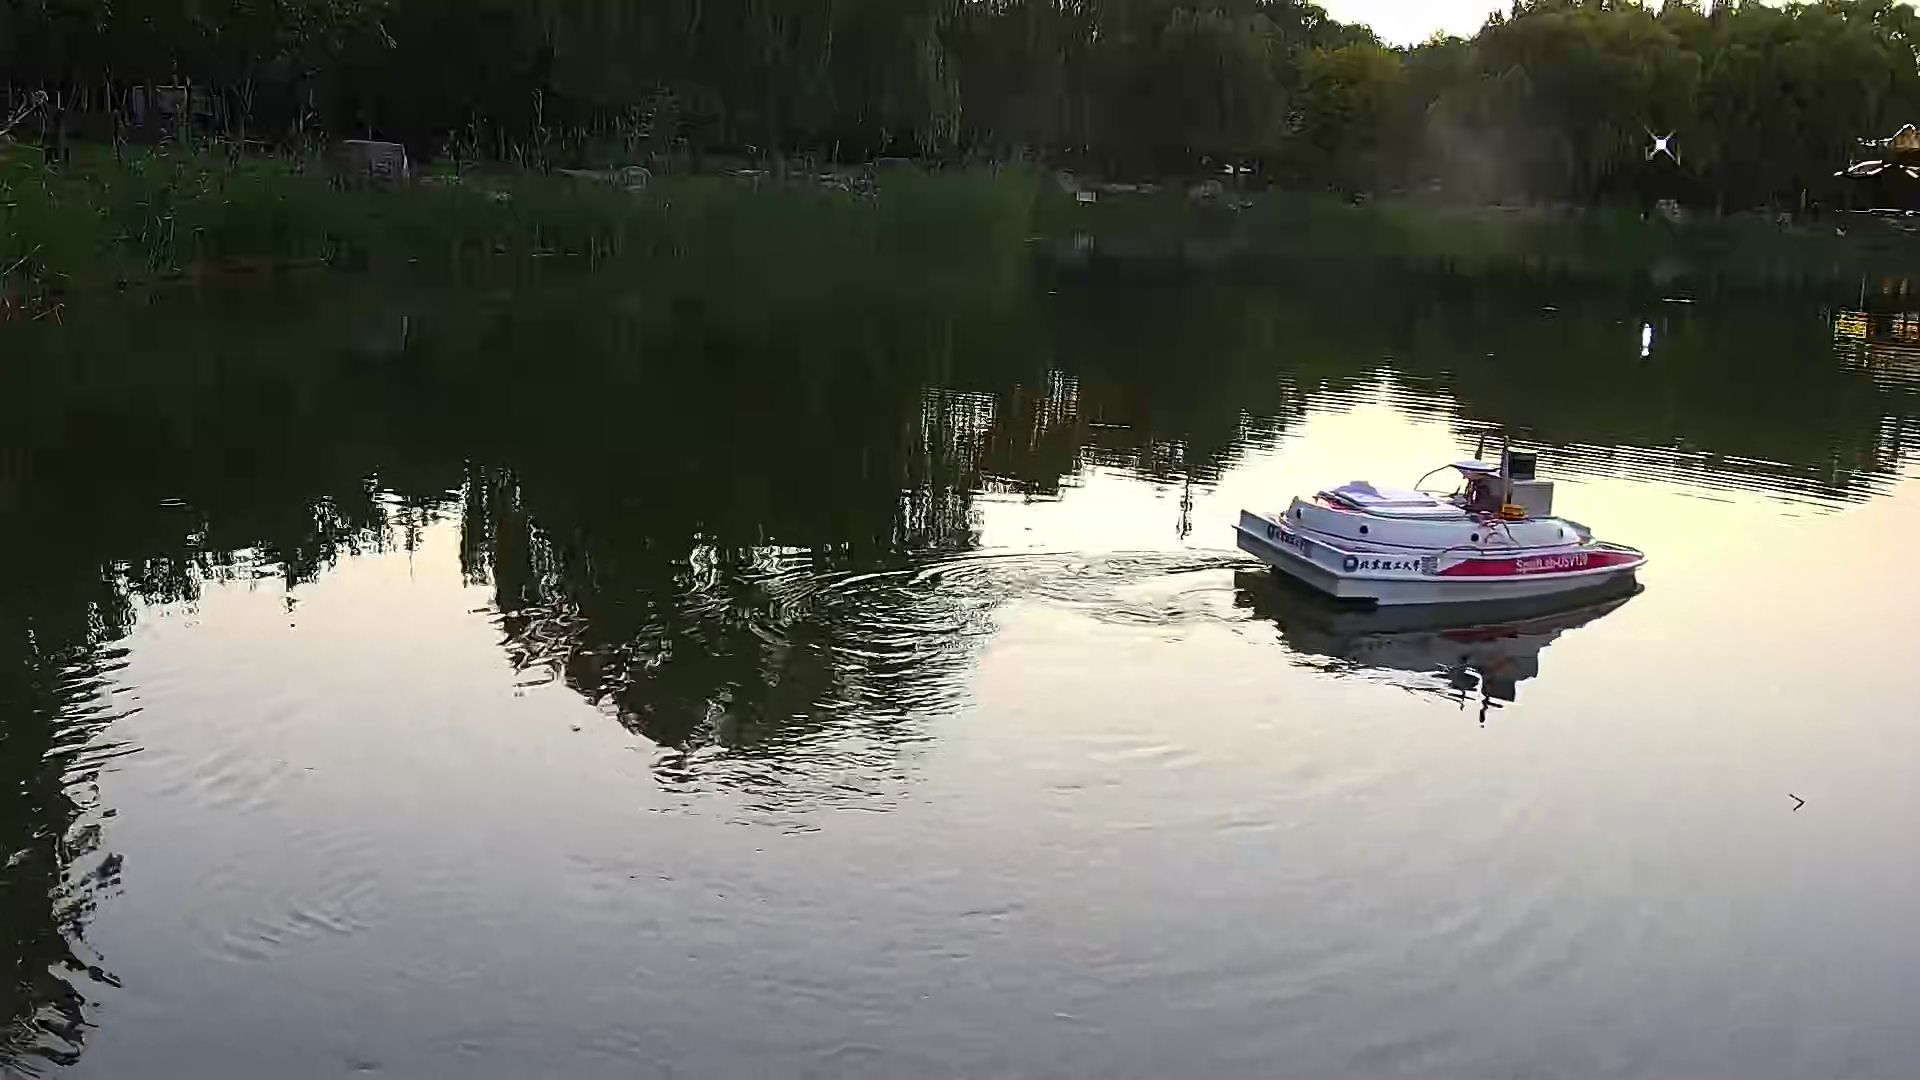boat: (1228, 436, 1651, 624)
